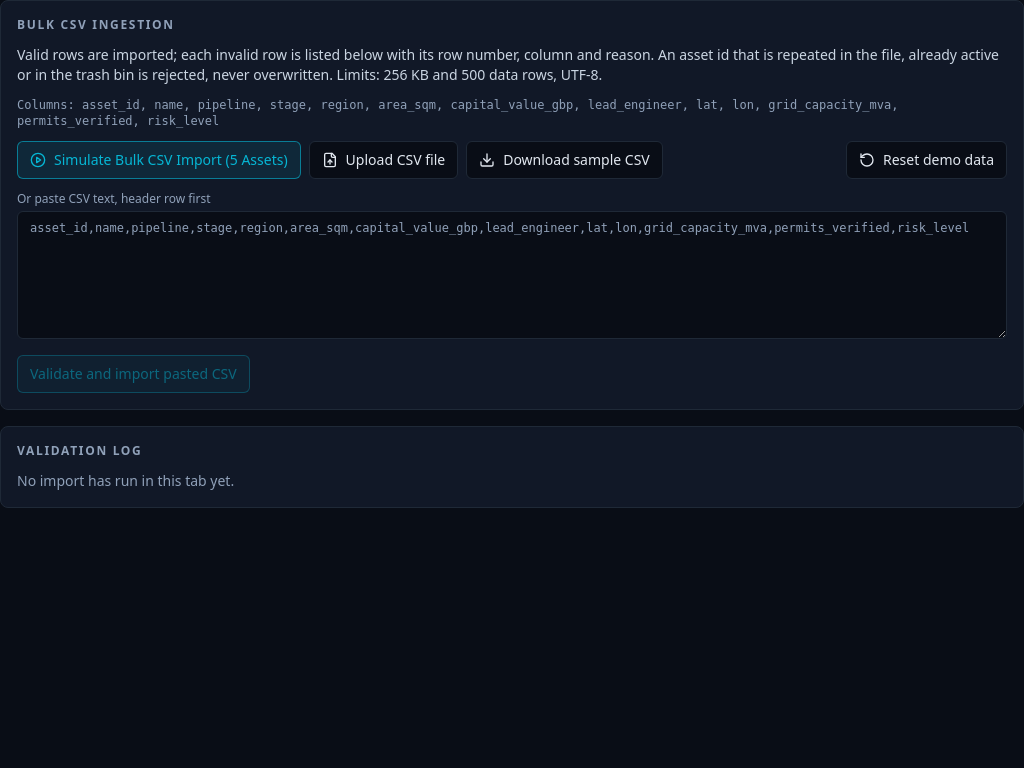
Test case: IngestView › shows a failed reset instead of failing silently
Step 1. Click the button "Reset demo data" → (926, 160), box [846,141,1007,179]
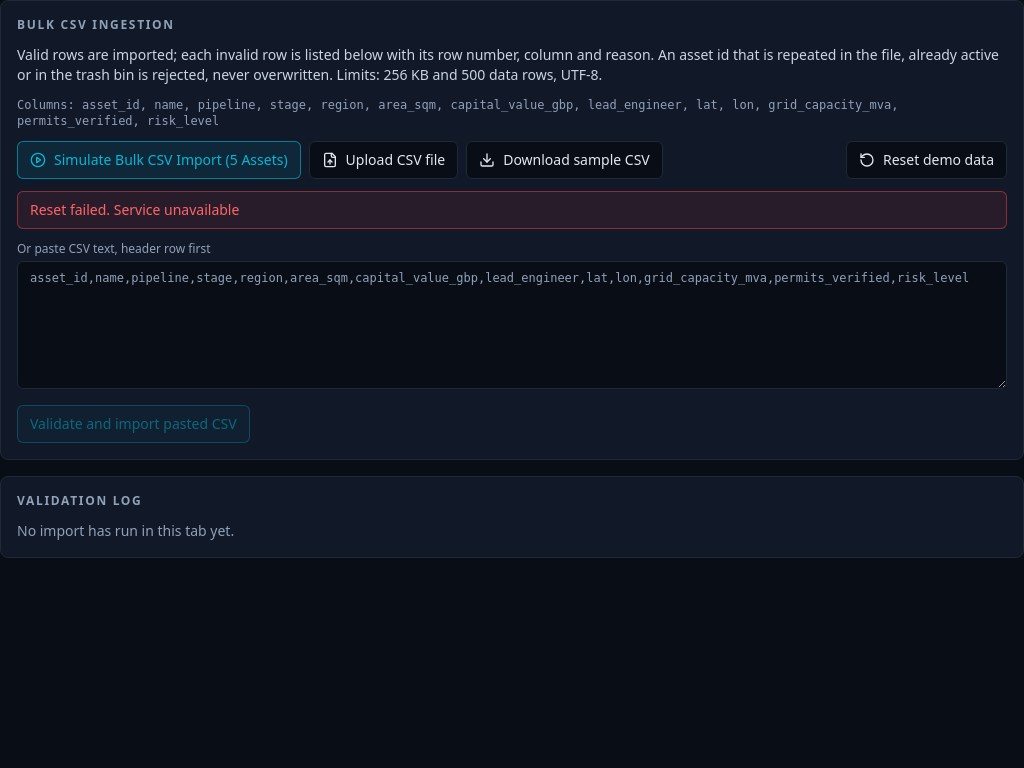
Expected: the message reads "Reset failed. Service unavailable", [30,200,239,219]
